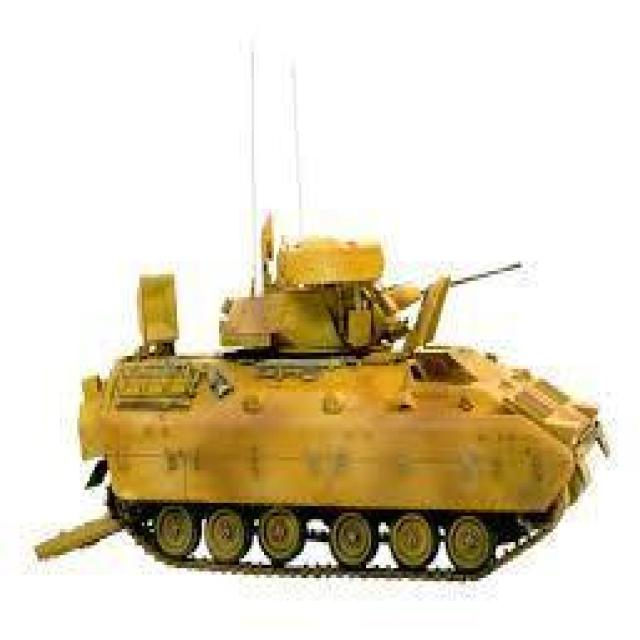Tanks: (35, 217, 608, 603)
